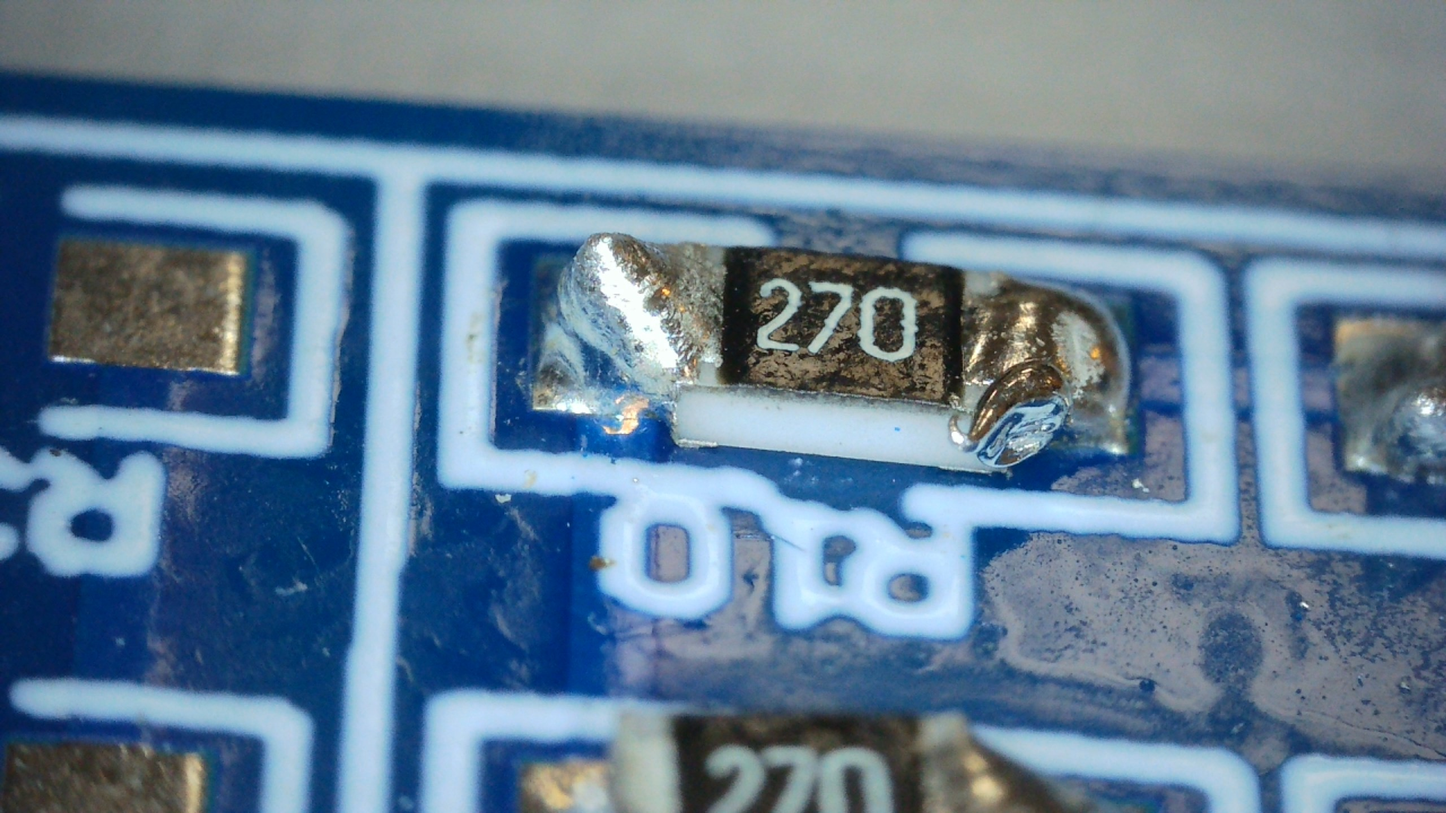NG: (947, 271, 1130, 466), (557, 232, 680, 400), (948, 361, 1074, 450)
